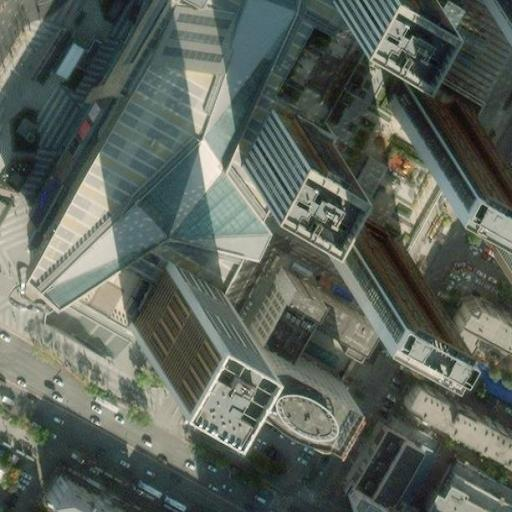building: (7, 0, 373, 318), (115, 248, 214, 351), (218, 314, 327, 402), (223, 93, 316, 183), (313, 205, 402, 277), (339, 418, 414, 501), (386, 71, 470, 137), (285, 273, 361, 335), (239, 256, 301, 331), (444, 401, 512, 461), (44, 469, 135, 512), (417, 313, 470, 385), (428, 467, 512, 512), (441, 455, 512, 507), (451, 291, 512, 347), (417, 0, 459, 53), (335, 478, 395, 512), (416, 485, 477, 512), (480, 218, 512, 268), (346, 154, 380, 193)
